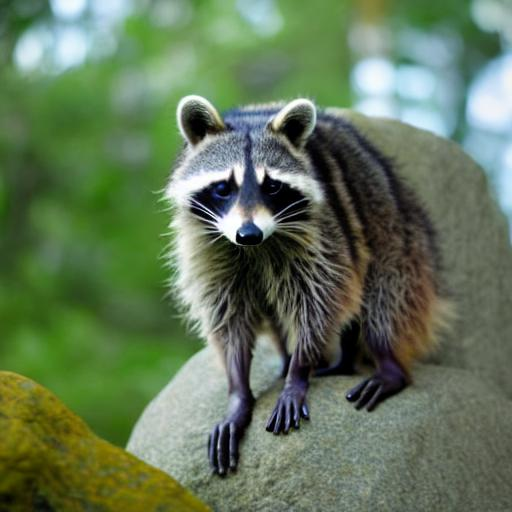raccoon: (151, 88, 458, 361)
